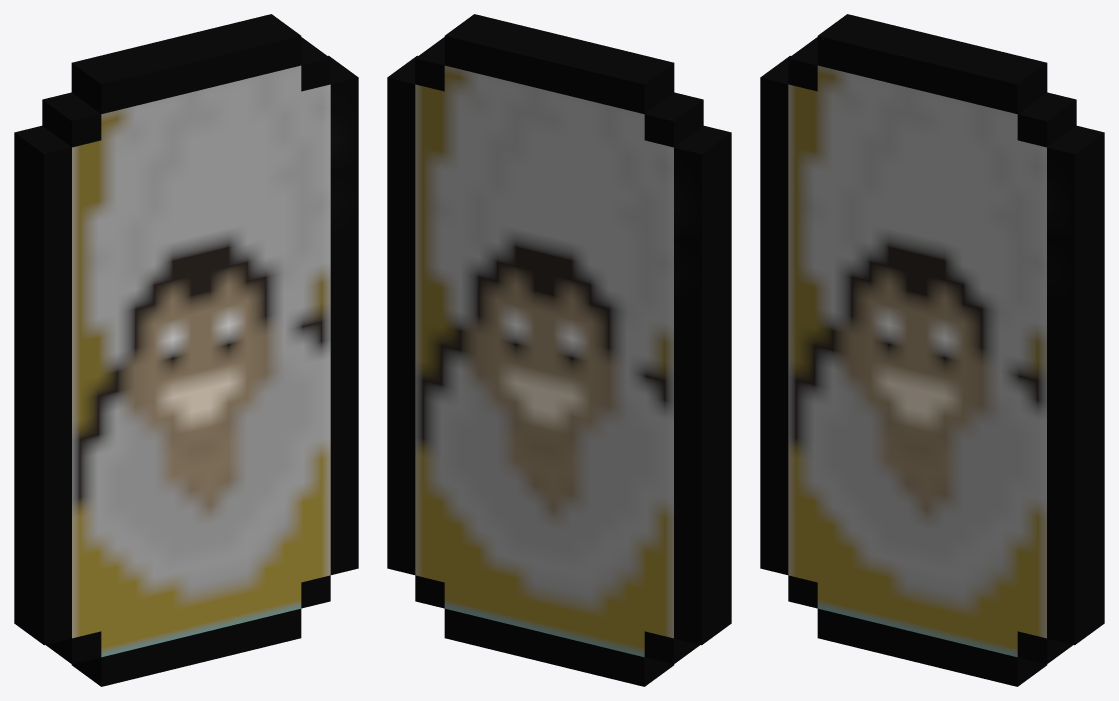
File: Phone.fbx
3 renders of one model, left to right at view 1: azimuth 30°, elevation 25°; view 2: azimuth 150°, elevation 25°; view 3: azimuth 330°, elevation 25°, orthographic.
Visible parts, largest first — view 1: Cube; view 2: Cube; view 3: Cube.
Part boxes in pixels (bbox=[...]): Cube: bbox=[14, 14, 358, 686]; Cube: bbox=[387, 14, 731, 686]; Cube: bbox=[760, 14, 1104, 686].
Size of the model in its own units: 200 by 366 by 32.87.
